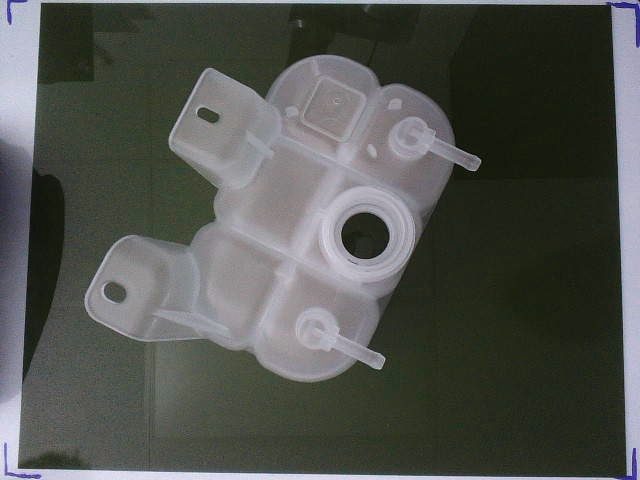reservoir_transparent_Top: (84, 55, 481, 383)
